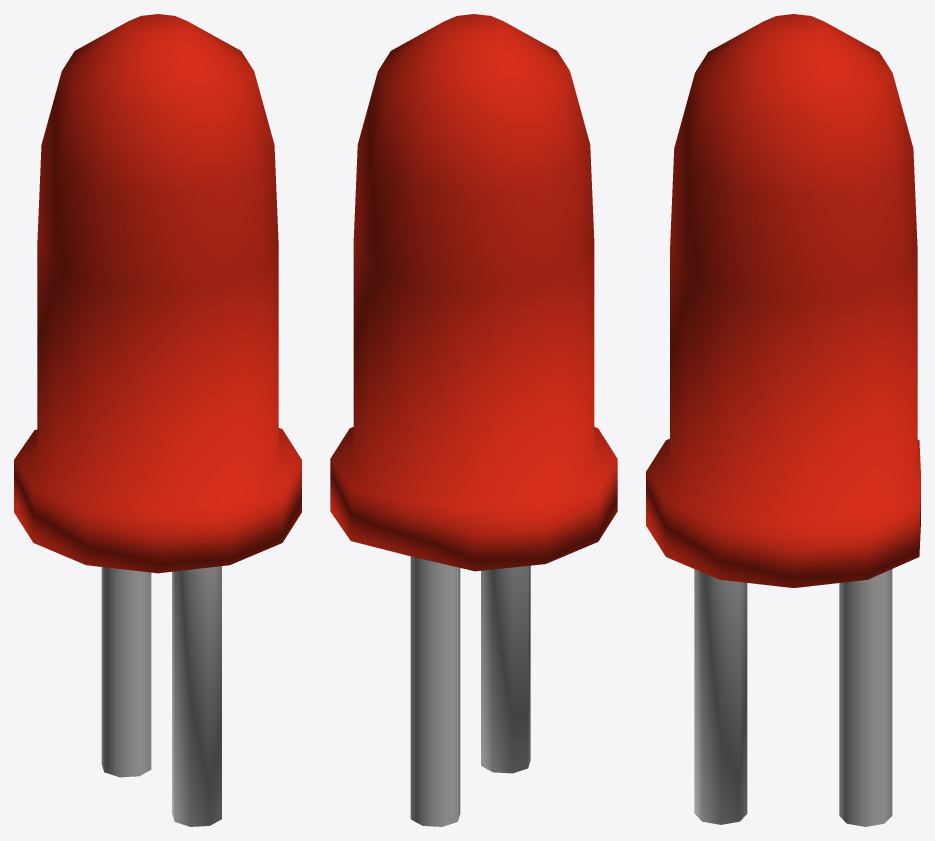
The model's file is LEDRed.fbx.
3 views of the same model, side by side, from view 1: azimuth 30°, elevation 25°; view 2: azimuth 150°, elevation 25°; view 3: azimuth 270°, elevation 25° (orthographic). The views are drawn at different scales.
Visible parts, largest first — view 1: LEDRed; view 2: LEDRed; view 3: LEDRed.
Boxes of the visible parts, x1,y1,x2,y2 form: LEDRed: (14,14,301,826); LEDRed: (330,14,617,826); LEDRed: (646,14,920,826).
Size of the model in its own units: 55.66 by 163 by 51.77.
